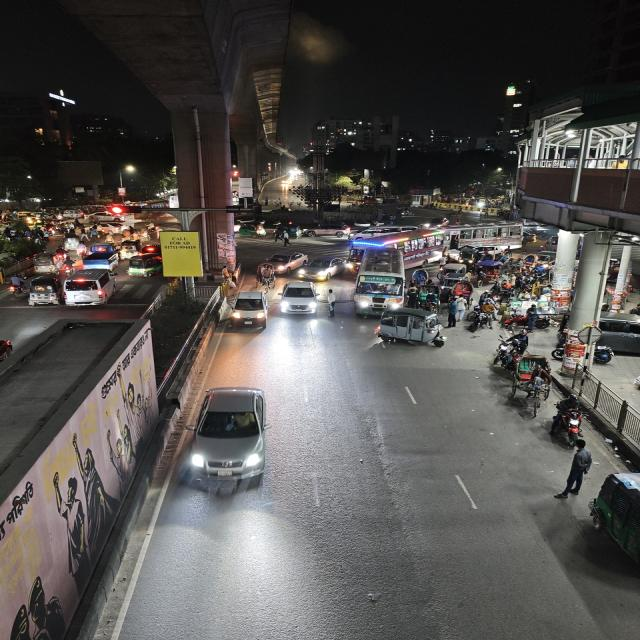bus: (349, 227, 441, 271), (350, 268, 409, 316), (443, 223, 521, 248)
car: (189, 384, 277, 496), (373, 305, 446, 350), (62, 268, 120, 308), (225, 288, 269, 332), (275, 278, 323, 318), (77, 239, 120, 270), (297, 254, 346, 280), (263, 250, 308, 274), (308, 222, 352, 240)
cng: (587, 468, 640, 580), (26, 274, 60, 308), (126, 254, 162, 279), (31, 253, 59, 273), (117, 239, 141, 259)
motorcycle: (548, 396, 592, 448), (59, 257, 77, 277)
pedestrian: (559, 442, 594, 499), (322, 290, 340, 318), (447, 296, 462, 328), (7, 272, 27, 296), (278, 230, 291, 246)
pickup_van: (77, 238, 121, 270)
rickshaw: (507, 354, 554, 402), (254, 261, 274, 293), (422, 282, 444, 306), (117, 239, 141, 259), (410, 266, 430, 288), (122, 226, 146, 241)
